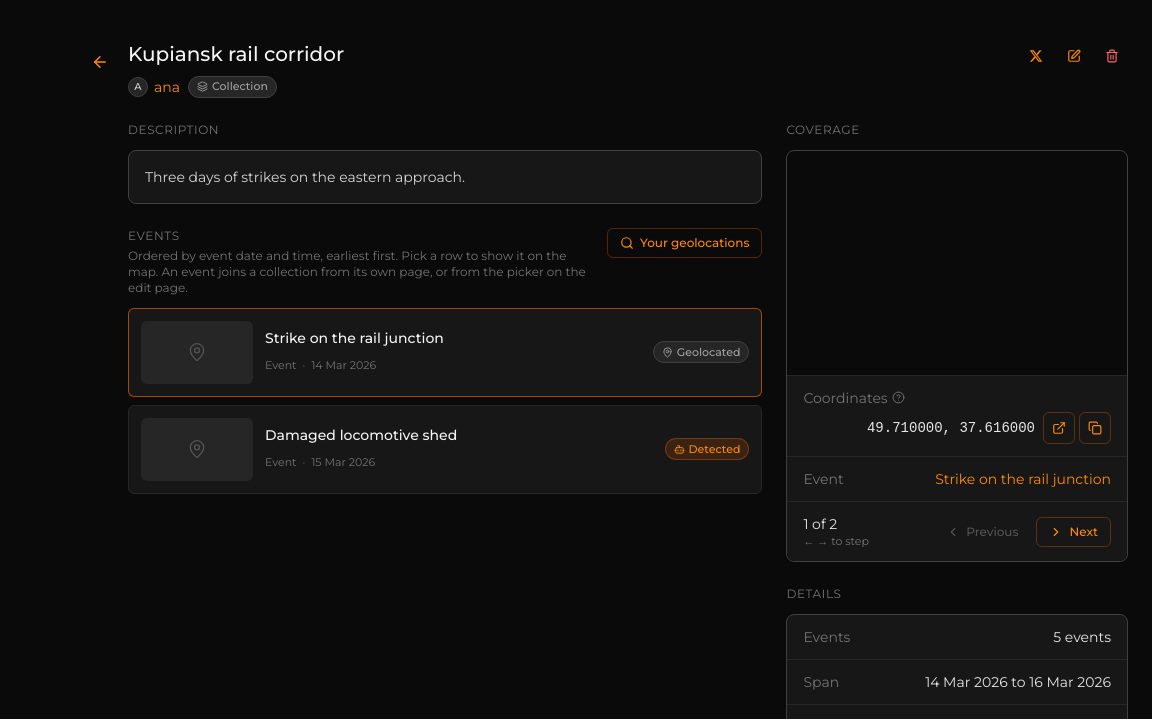
Test: CollectionPage › keeps the collection and says so when the drop fails
Expected: the heading "Kupiansk rail corridor" is shown, [128,42,344,66]
Click the button named "Drop this collection" at (1112, 56), box [1096,40,1128,72]
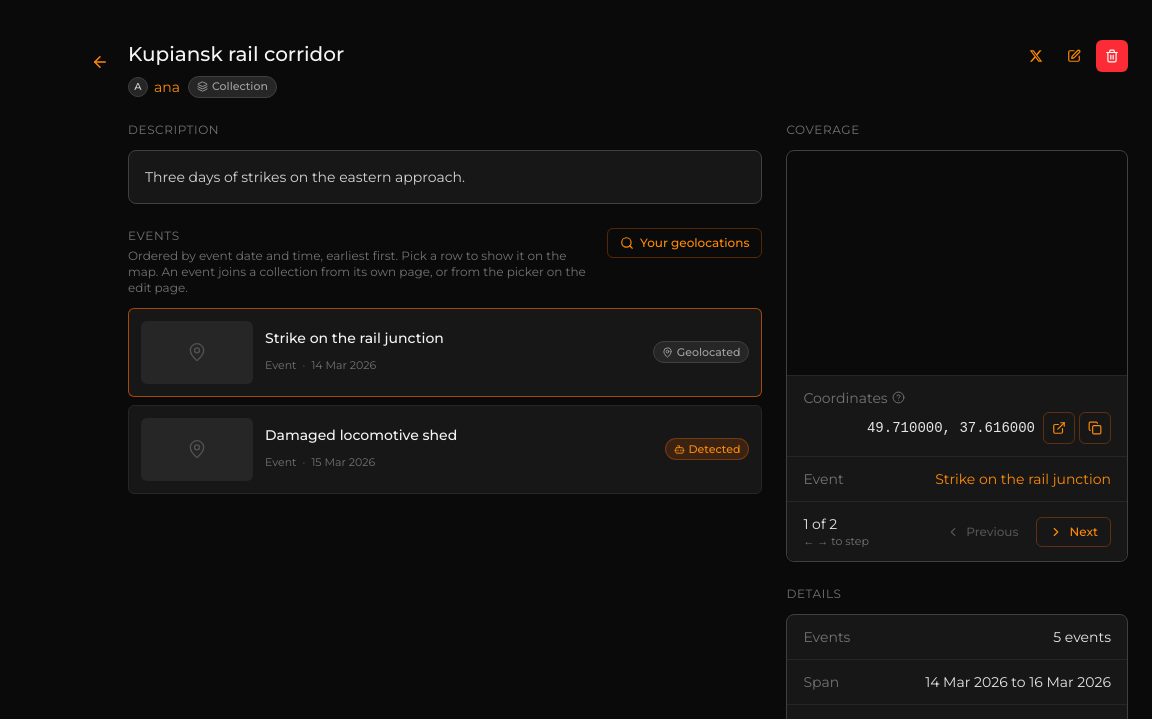
Click the button named "Confirm drop this collection" at (1112, 56), box [1096,40,1128,72]
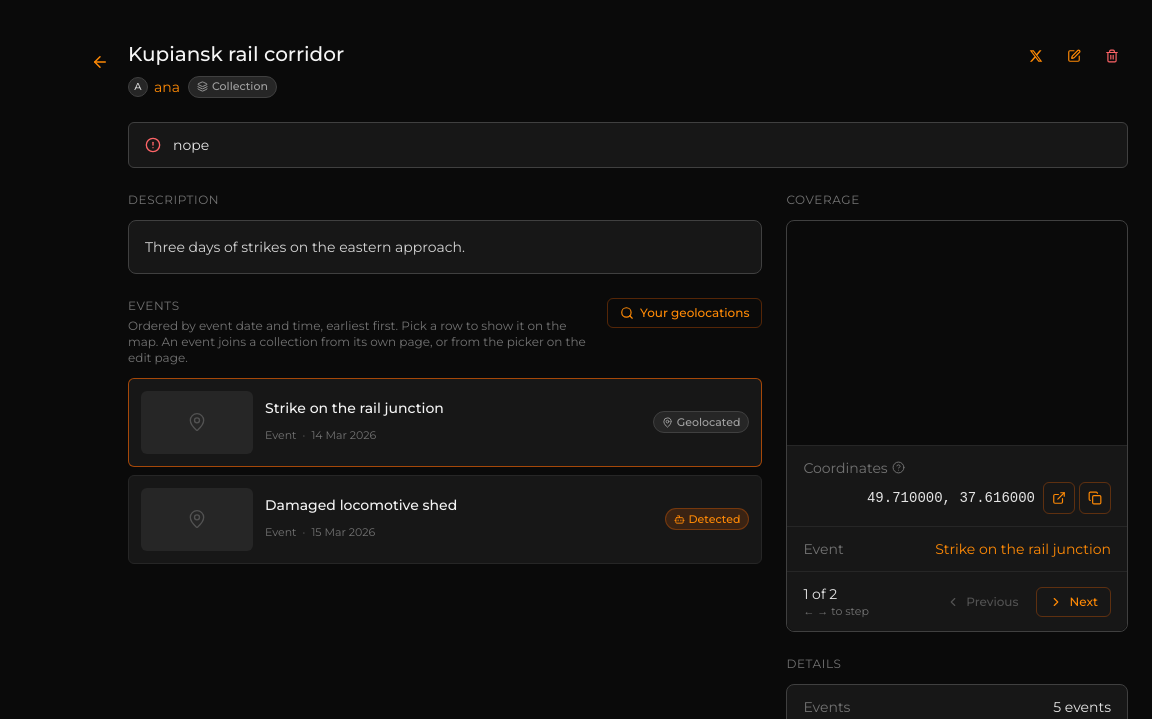
Expected: the message reads "nope", [173,136,209,154]
